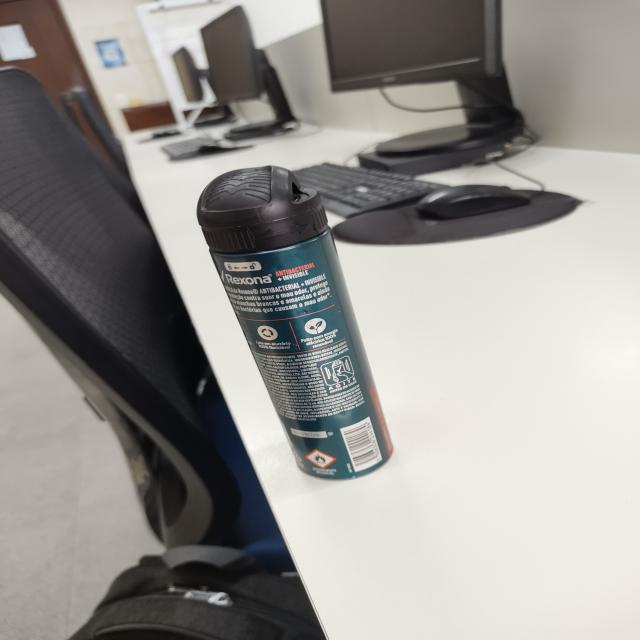Desodorante Azul: (197, 166, 392, 480)
